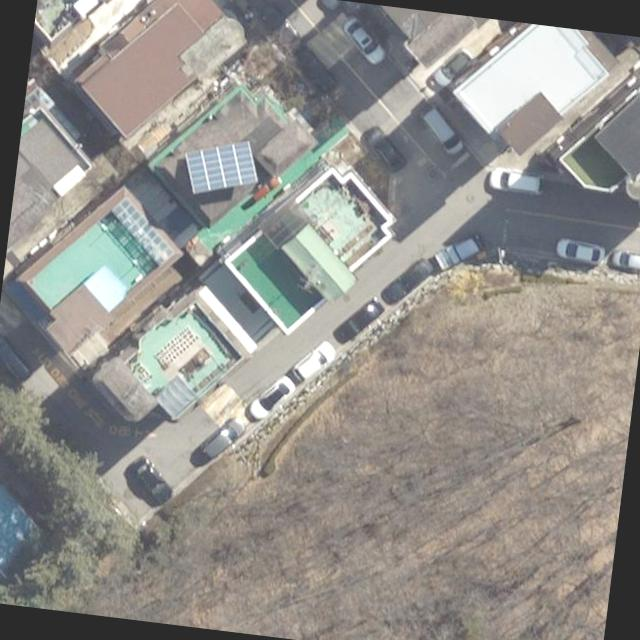solar: (178, 130, 264, 204)
